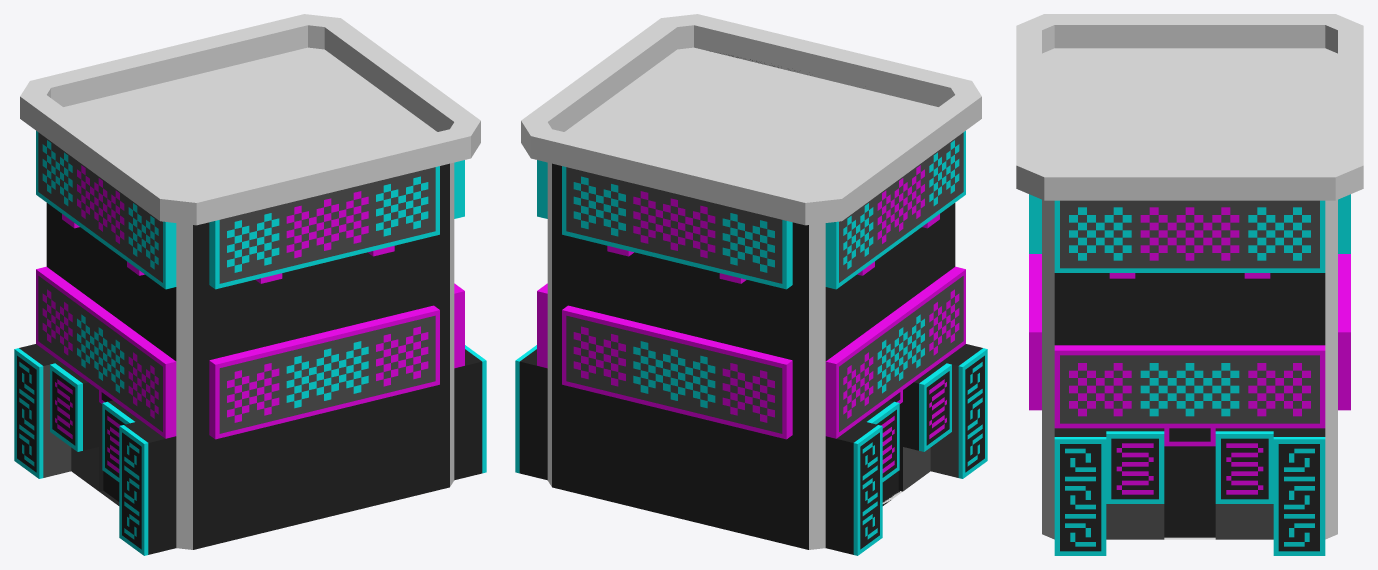
The model's file is Edificio 15.fbx.
3 renders of one model, left to right at view 1: azimuth 30°, elevation 25°; view 2: azimuth 150°, elevation 25°; view 3: azimuth 270°, elevation 25°, orthographic. The views are drawn at different scales.
Parts seen in each view (by area): view 1: Pared 2 [10638], [10665], Pared 1 [10621], Pared 1 [10618]; view 2: Pared 2 [10632], [10665], Pared 1 [10621], Pared 1 [10618]; view 3: Pared 1 [10618], [10665], Pared 2 [10632], Pared 2 [10638].
Part boxes in pixels (x1,y1,x2,y2): Pared 2 [10638]: (193, 163, 449, 549); [10665]: (20, 14, 480, 549); Pared 1 [10621]: (14, 131, 176, 555); Pared 1 [10618]: (454, 160, 486, 480); Pared 2 [10632]: (552, 163, 808, 549); [10665]: (521, 14, 981, 549); Pared 1 [10621]: (825, 131, 987, 555); Pared 1 [10618]: (515, 160, 547, 480); Pared 1 [10618]: (1054, 200, 1325, 555); [10665]: (1016, 14, 1363, 539); Pared 2 [10632]: (1338, 194, 1350, 410); Pared 2 [10638]: (1029, 194, 1041, 410).
Bounding box in the file's own units: 630 × 531 × 630.
